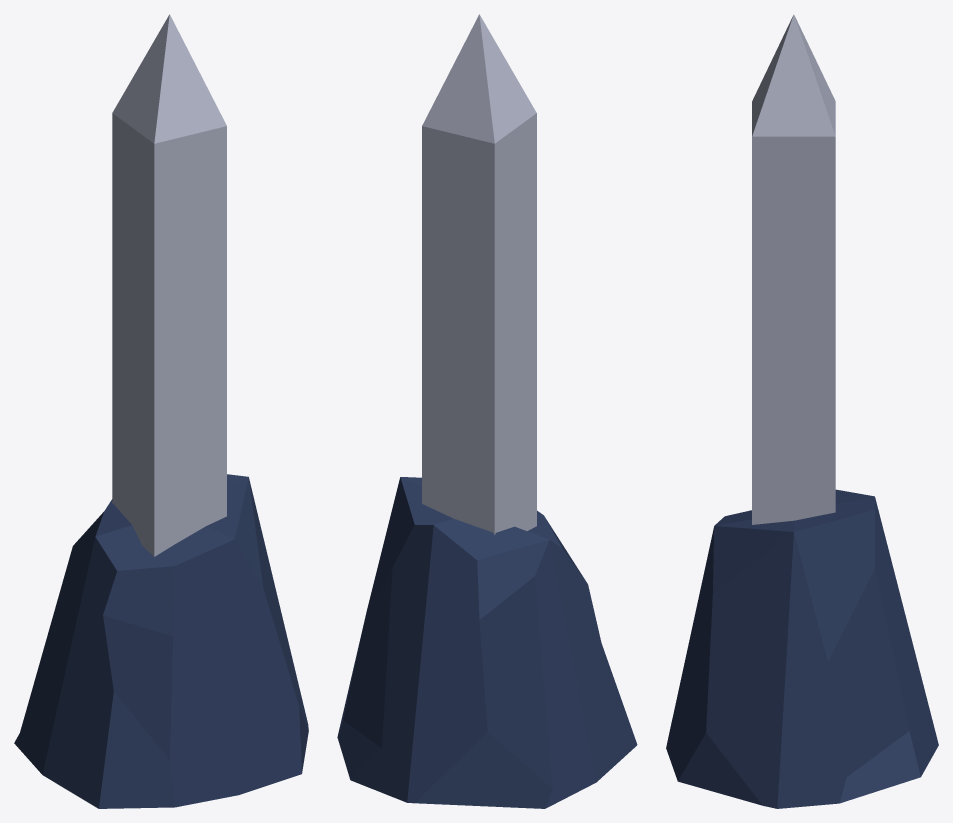
File: obelisk.fbx
The picture shows the model from 3 angles, left to right: view 1: azimuth 30°, elevation 25°; view 2: azimuth 150°, elevation 25°; view 3: azimuth 270°, elevation 25°; orthographic projection.
Parts seen in each view (by area): view 1: obelisk; view 2: obelisk; view 3: obelisk.
Part boxes in pixels (x1,y1,x2,y2): obelisk: (14,14,308,808); obelisk: (337,14,637,808); obelisk: (666,14,938,808).
Size of the model in its own units: 504 by 1404 by 475.
